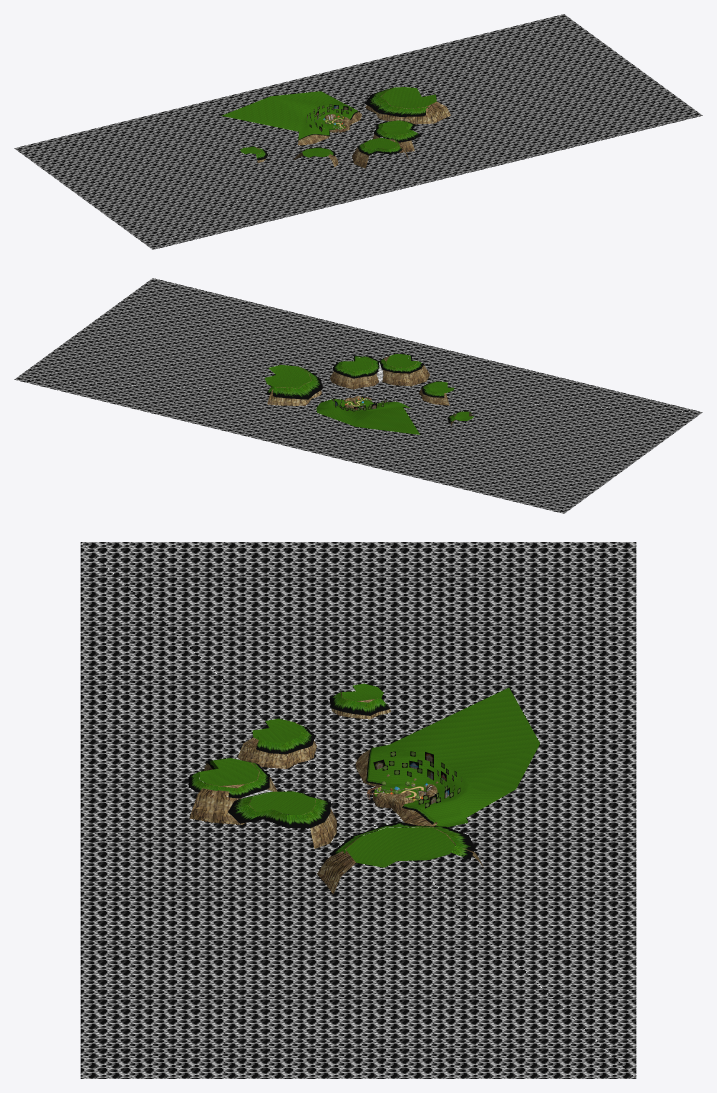
3 views of the same model, one above another, from view 1: azimuth 30°, elevation 25°; view 2: azimuth 150°, elevation 25°; view 3: azimuth 270°, elevation 25° (orthographic). The views are drawn at different scales.
Visible parts, largest first — view 1: Water, Grass, Rock, Grass overlay; view 2: Water, Grass, Rock, Grass overlay; view 3: Water, Grass, Rock, Grass overlay, Background.
Boxes of the visible parts, x1,y1,x2,y2 form: Water: [14, 14, 702, 249]; Grass: [221, 87, 436, 157]; Rock: [255, 88, 450, 168]; Grass overlay: [251, 87, 428, 160]; Water: [14, 278, 702, 513]; Grass: [264, 354, 473, 434]; Rock: [267, 356, 471, 426]; Grass overlay: [266, 354, 473, 422]; Water: [80, 542, 636, 1078]; Grass: [199, 683, 539, 867]; Rock: [189, 692, 483, 894]; Grass overlay: [188, 692, 475, 859]; Background: [373, 751, 461, 808].
Size of the model in its own units: 1654334 by 74240 by 723300.
39 materials, 39 textured.
